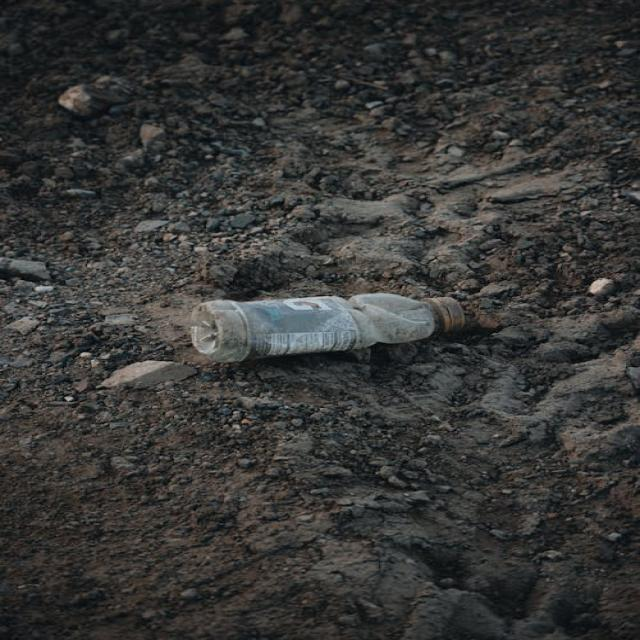plastic bottle: (192, 264, 495, 362)
